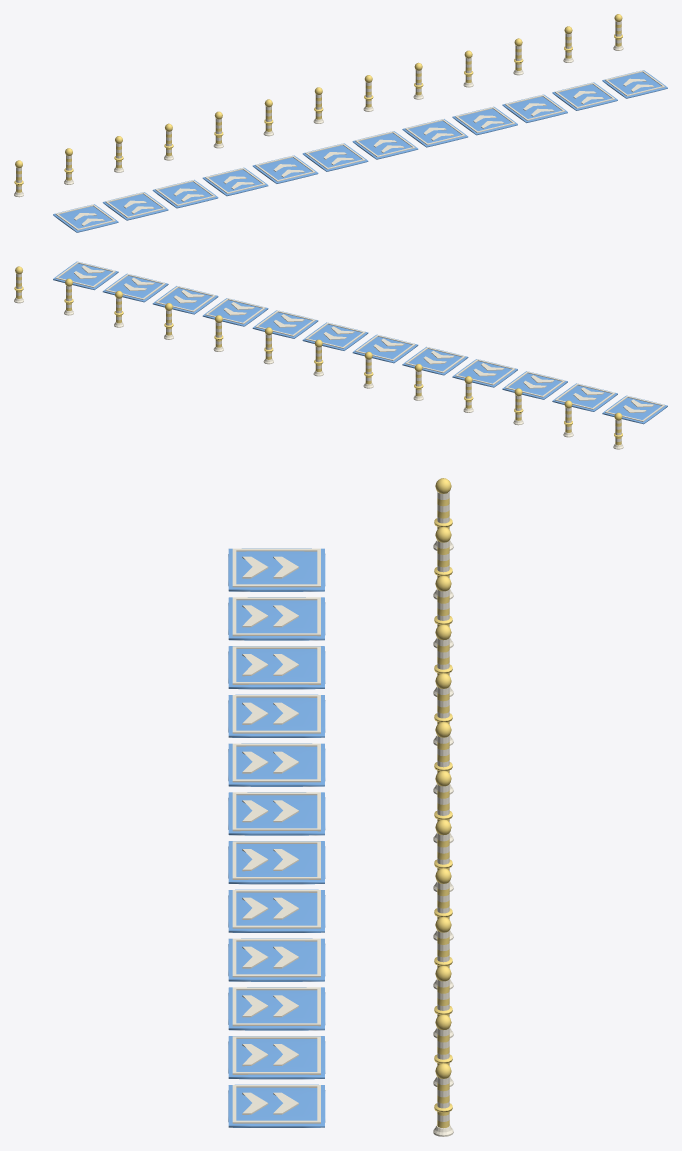
File: RockinRacewayHurdleRow.glb
3 views of the same model, one above another, from view 1: azimuth 30°, elevation 25°; view 2: azimuth 150°, elevation 25°; view 3: azimuth 270°, elevation 25° (orthographic). The views are drawn at different scales.
Visible parts, largest first — view 1: Takeoff, Trim, Gold, Poles; view 2: Takeoff, Trim, Gold, Poles; view 3: Takeoff, Trim, Gold, Poles.
Boxes of the visible parts, <box> form: Takeoff: <box>53,70,667,232</box>; Trim: <box>14,21,665,230</box>; Gold: <box>14,14,622,184</box>; Poles: <box>16,24,621,192</box>; Takeoff: <box>53,261,667,424</box>; Trim: <box>14,262,665,449</box>; Gold: <box>14,266,622,437</box>; Poles: <box>16,276,621,445</box>; Takeoff: <box>228,548,325,1127</box>; Trim: <box>232,492,453,1136</box>; Gold: <box>434,478,452,1112</box>; Poles: <box>437,498,449,1128</box>.
Bounding box in the file's own units: 54.8 × 2.96 × 8.79.
